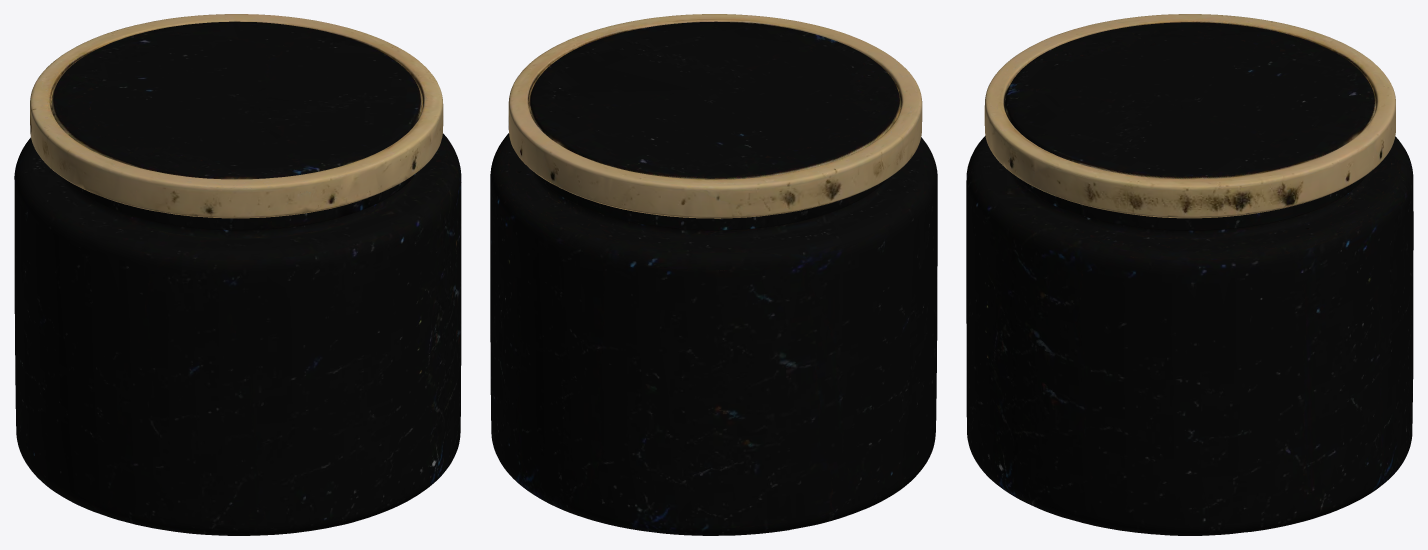
The model's file is pedestal.glb.
3 renders of one model, left to right at view 1: azimuth 30°, elevation 25°; view 2: azimuth 150°, elevation 25°; view 3: azimuth 270°, elevation 25°, orthographic.
Parts seen in each view (by area): view 1: material; view 2: material; view 3: material.
Boxes of the visible parts, left/top/right/bottom form: material: left=14, top=14, right=461, bottom=535; material: left=490, top=14, right=937, bottom=535; material: left=966, top=14, right=1413, bottom=535.
Bounding box in the file's own units: 0.9341 × 0.8022 × 0.9343.
1 material, 1 textured.
